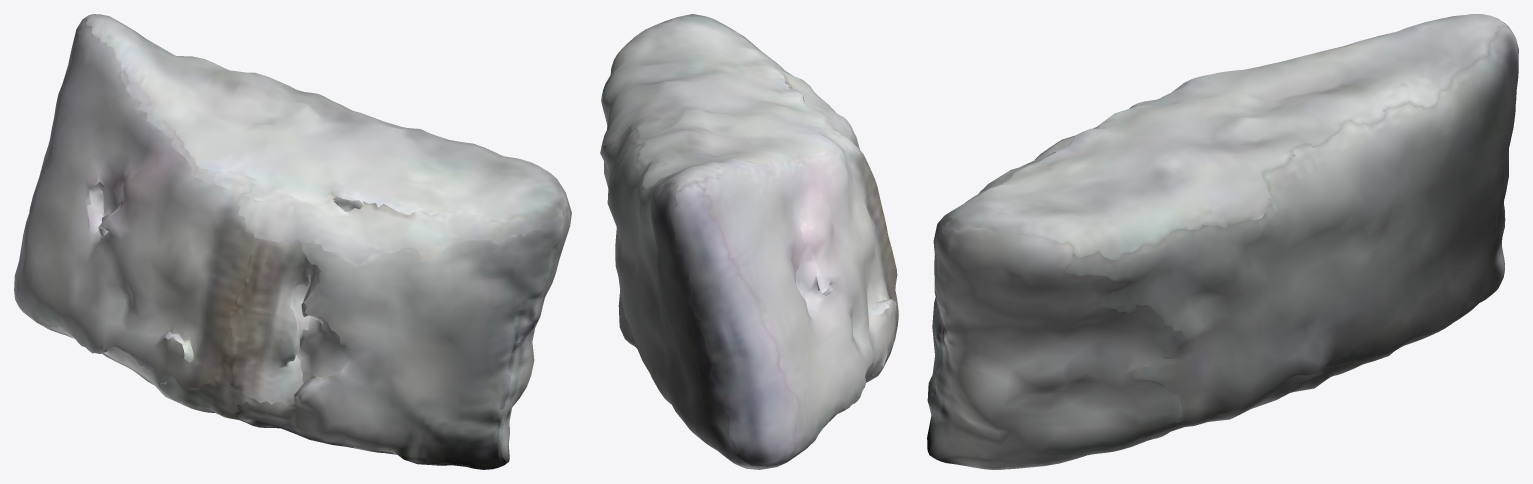
File: 4_pillow.glb
3 views of the same model, side by side, from view 1: azimuth 30°, elevation 25°; view 2: azimuth 150°, elevation 25°; view 3: azimuth 270°, elevation 25° (orthographic). The views are drawn at different scales.
Parts seen in each view (by area): view 1: 4_pillow; view 2: 4_pillow; view 3: 4_pillow.
Part boxes in pixels (x1,y1,x2,y2): 4_pillow: [14, 14, 571, 469]; 4_pillow: [600, 14, 898, 469]; 4_pillow: [927, 14, 1518, 469].
Bounding box in the file's own units: 0.4296 × 0.3719 × 0.5503.
Materials: 1 (1 with a texture image).
